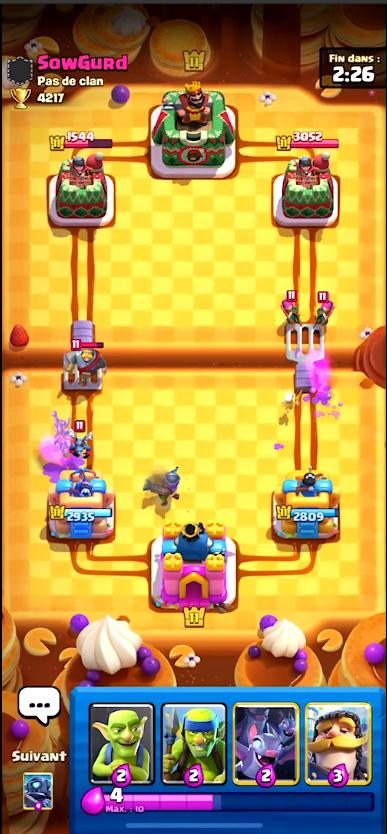archere: (281, 294, 307, 327), (314, 294, 333, 328)
chevalier: (68, 334, 108, 391)
gargouille: (68, 425, 91, 458)
mousquetaire: (143, 462, 181, 506)
